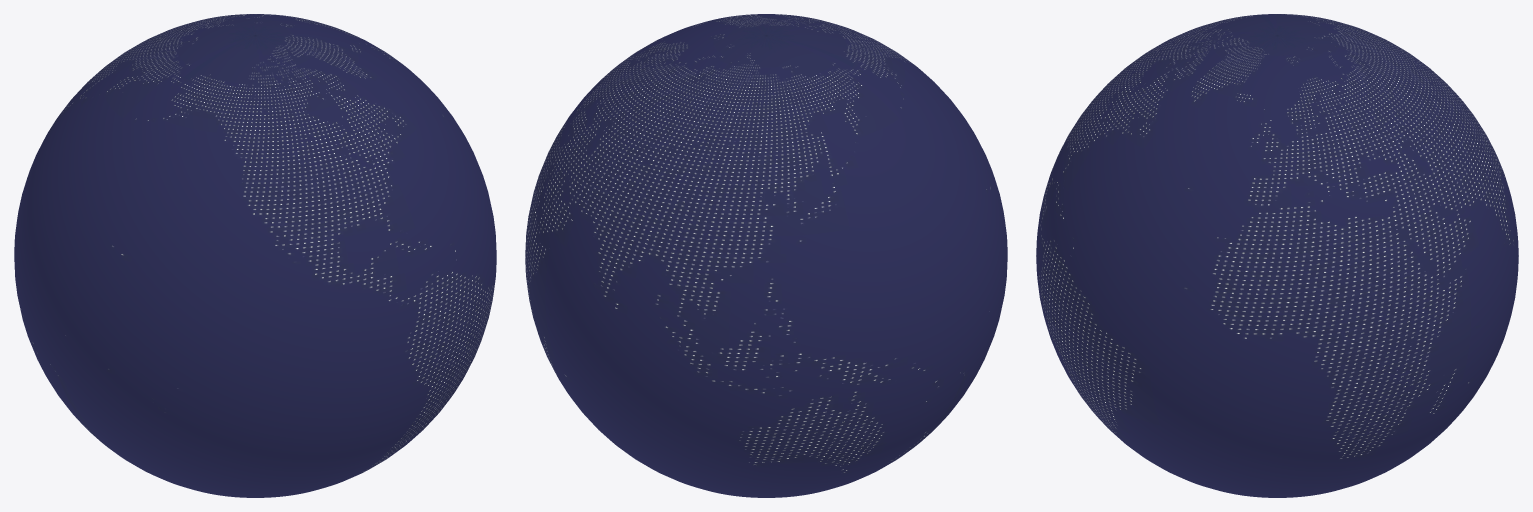
The model's file is Globe.gltf.
3 renders of one model, left to right at view 1: azimuth 30°, elevation 25°; view 2: azimuth 150°, elevation 25°; view 3: azimuth 270°, elevation 25°, orthographic.
Parts seen in each view (by area): view 1: Sphere; view 2: Sphere; view 3: Sphere.
Part boxes in pixels (x1,y1,x2,y2): Sphere: (14,14,496,497); Sphere: (525,14,1007,497); Sphere: (1036,14,1518,497).
Bounding box in the file's own units: 1.98 × 2 × 1.98.
1 material, 1 textured.
